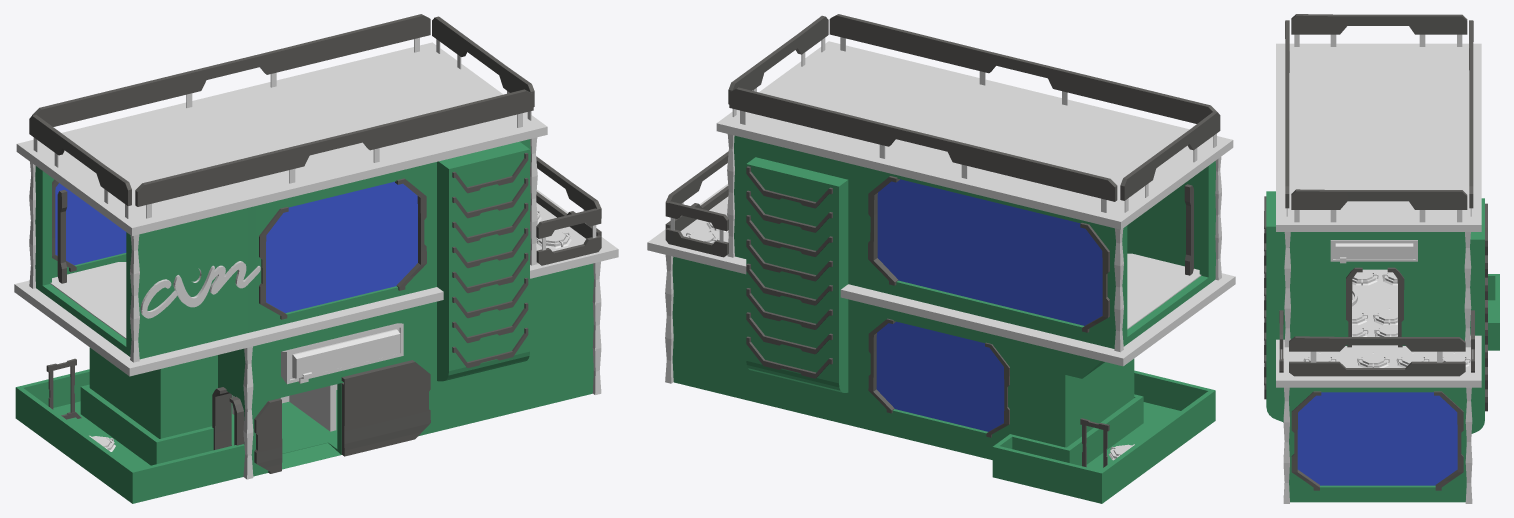
File: edificioProps3.glb
The picture shows the model from 3 angles, left to right: view 1: azimuth 30°, elevation 25°; view 2: azimuth 150°, elevation 25°; view 3: azimuth 270°, elevation 25°; orthographic projection. The views are drawn at different scales.
Visible parts, largest first — view 1: Techo 2, Piso1, Piso 2, Panel1, Cube.079, Pasillo, Base piso 2, Cube.014, Cube.058, Cube.105, Cube.009, Cube.107 (+20 smaller); view 2: Techo 2, Piso1, Cube.080, Piso 2, Panel 2, Pasillo, Cube.084, Base piso 2, Cube.058, Cube.014, Rejillas1, Cylinder (+14 smaller); view 3: Techo 2, Cube.081, Piso 2, Base piso 2, Piso1, Panel1, Cube.020, Cube.063, Panel 2, Cube.040, Cube.039, Cube.097 (+17 smaller).
Boxes of the visible parts, x1,y1,x2,y2 form: Techo 2: [16, 42, 547, 235]; Piso1: [89, 263, 593, 476]; Piso 2: [35, 139, 530, 359]; Panel1: [437, 141, 529, 381]; Cube.079: [266, 181, 417, 313]; Pasillo: [15, 369, 244, 503]; Base piso 2: [14, 189, 618, 376]; Cube.014: [135, 89, 533, 206]; Cube.058: [32, 14, 430, 126]; Cube.105: [341, 360, 430, 456]; Cube.009: [452, 153, 528, 367]; Cube.107: [281, 323, 403, 384]; Techo 2: [716, 41, 1233, 229]; Piso1: [672, 256, 1134, 459]; Cube.080: [877, 179, 1102, 325]; Piso 2: [734, 135, 1215, 348]; Panel 2: [746, 157, 848, 392]; Pasillo: [992, 370, 1215, 503]; Cube.084: [876, 321, 1004, 431]; Base piso 2: [647, 184, 1235, 366]; Cube.058: [729, 87, 1117, 201]; Cube.014: [829, 14, 1216, 123]; Rejillas1: [746, 166, 832, 378]; Cylinder: [1127, 253, 1201, 329]; Techo 2: [1276, 43, 1481, 231]; Cube.081: [1297, 392, 1457, 485]; Piso 2: [1289, 232, 1465, 345]; Base piso 2: [1276, 269, 1481, 387]; Piso1: [1289, 387, 1466, 502]; Panel1: [1266, 191, 1285, 422]; Cube.020: [1291, 14, 1467, 34]; Cube.063: [1291, 189, 1467, 209]; Panel 2: [1470, 198, 1484, 433]; Cube.040: [1289, 361, 1465, 376]; Cube.039: [1289, 336, 1465, 351]; Cube.097: [1330, 240, 1417, 261].
Size of what is drawn, in the model's own units: 33.18 by 20.91 by 15.53.
